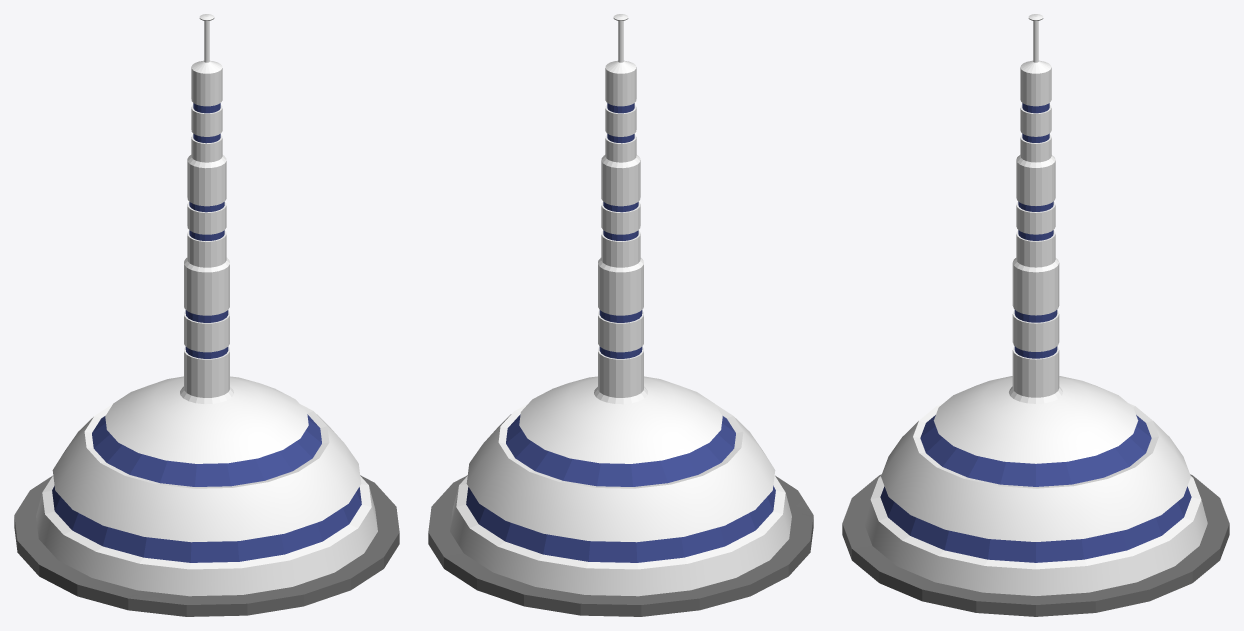
Rendered from Building3_Asset.fbx.
3 views of the same model, side by side, from view 1: azimuth 30°, elevation 25°; view 2: azimuth 150°, elevation 25°; view 3: azimuth 270°, elevation 25° (orthographic).
Visible parts, largest first — view 1: Building3_Asset; view 2: Building3_Asset; view 3: Building3_Asset.
Boxes of the visible parts, x1=… form: Building3_Asset: x1=14, y1=14, x2=399, y2=616; Building3_Asset: x1=428, y1=14, x2=813, y2=616; Building3_Asset: x1=842, y1=14, x2=1229, y2=616.
Size of the model in its own units: 12.53 by 18.7 by 12.53.
1 material, 1 textured.
